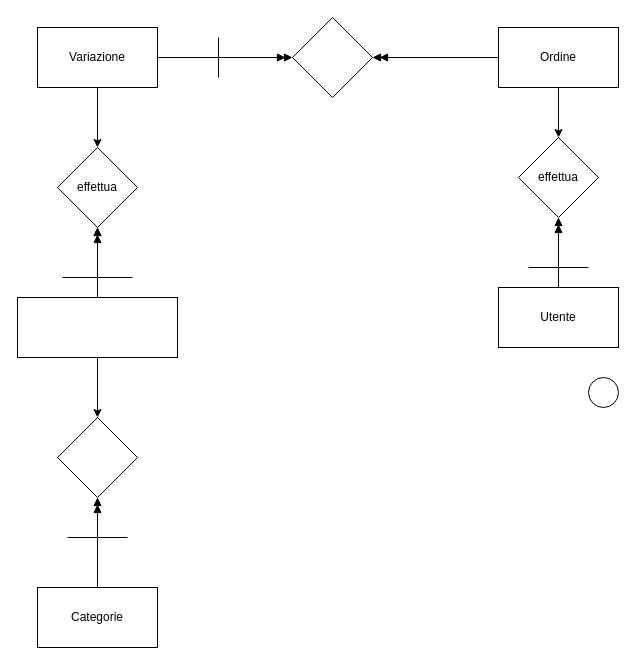
The diagram is 636 pixels wide and 665 high, and some of its shapes have lost their labels. Here are the shapes that lost their labels. From the top down, the centre of each, then its label:
the point at 332,57: appoggio
the point at 97,327: Prodotto
the point at 97,457: contiene
